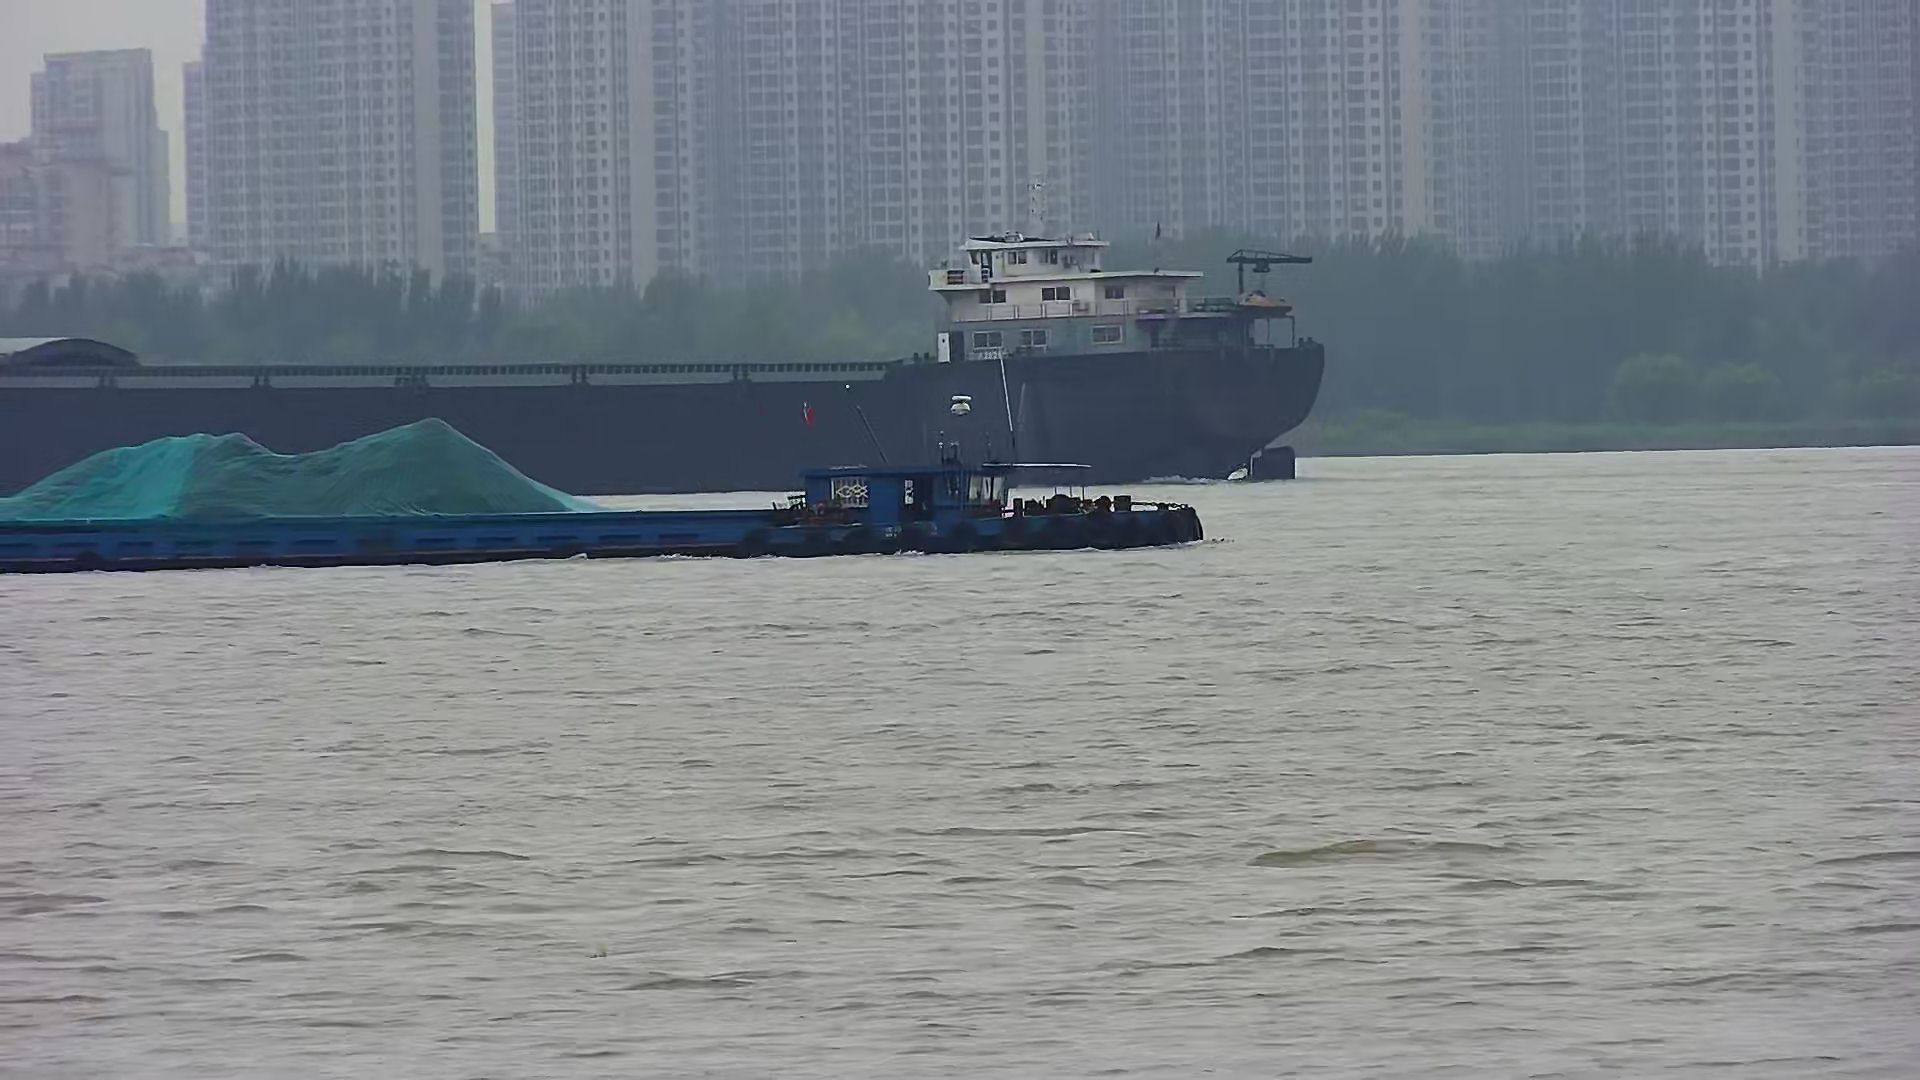ship: (1, 182, 1328, 492), (1, 407, 1204, 574)
